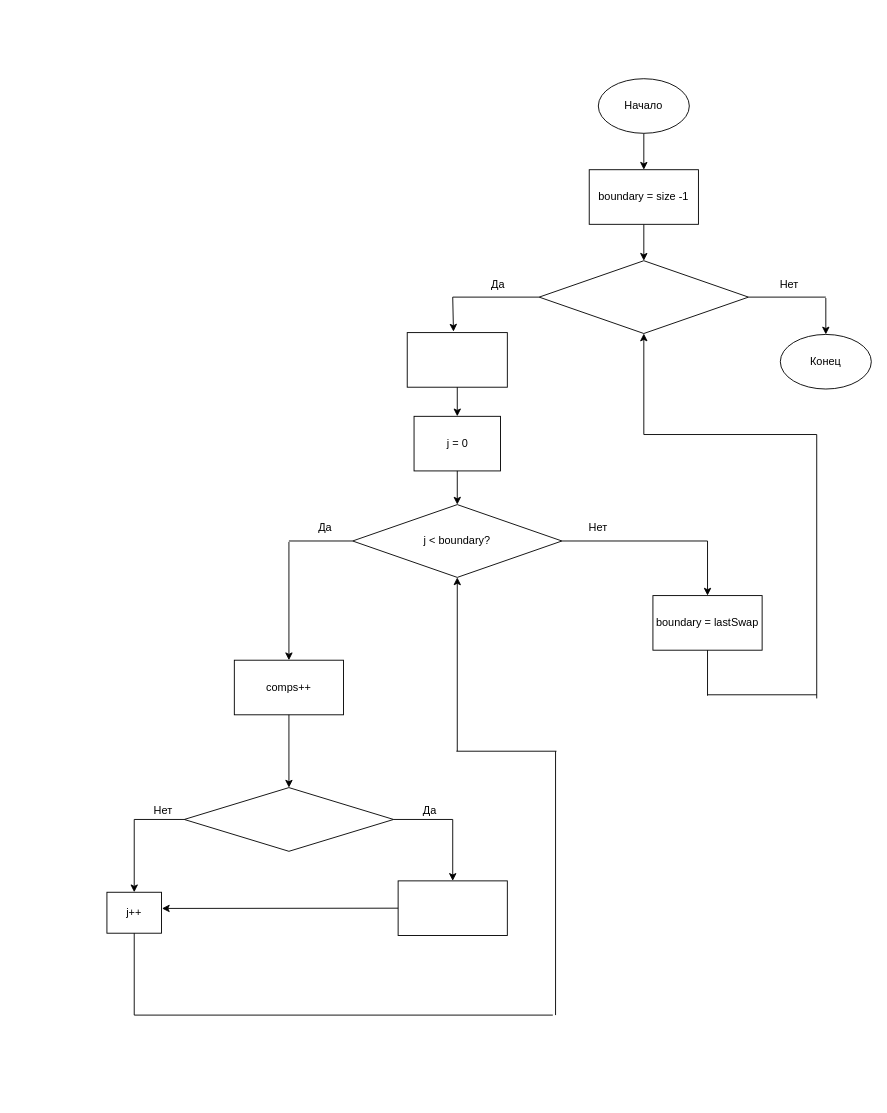
This 887x1113 diagram has some shape labels left out. The shapes that lost their labels are listed below. From the top down, each one's centre as x and y in pixels, then its label:
(643,297): boundary > 0?
(456,359): lastSwap = 0
(288,819): arr[j] > arr[j+1]?
(452,907): swap(arr[j], arr[j+1]) swaps++ lastSwap = j
